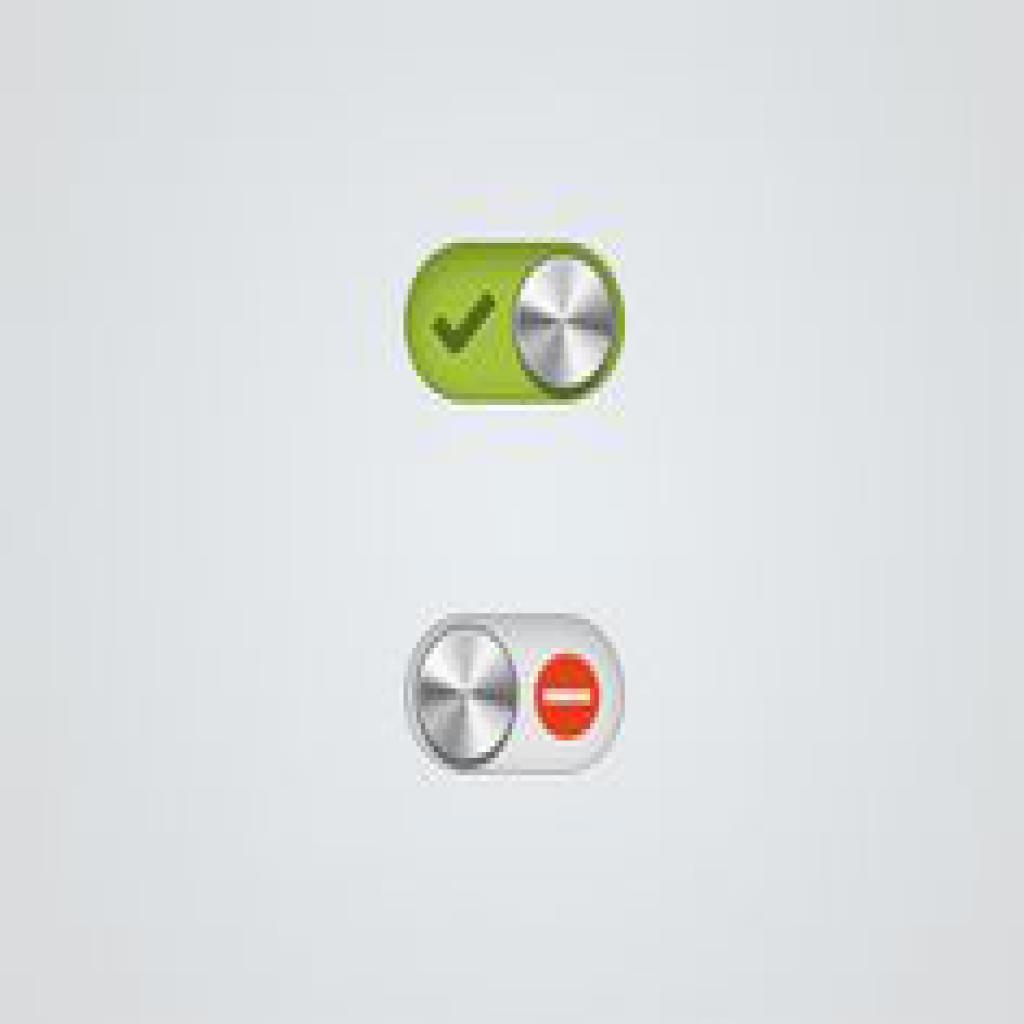switch: (405, 241, 628, 406), (407, 612, 628, 778)
